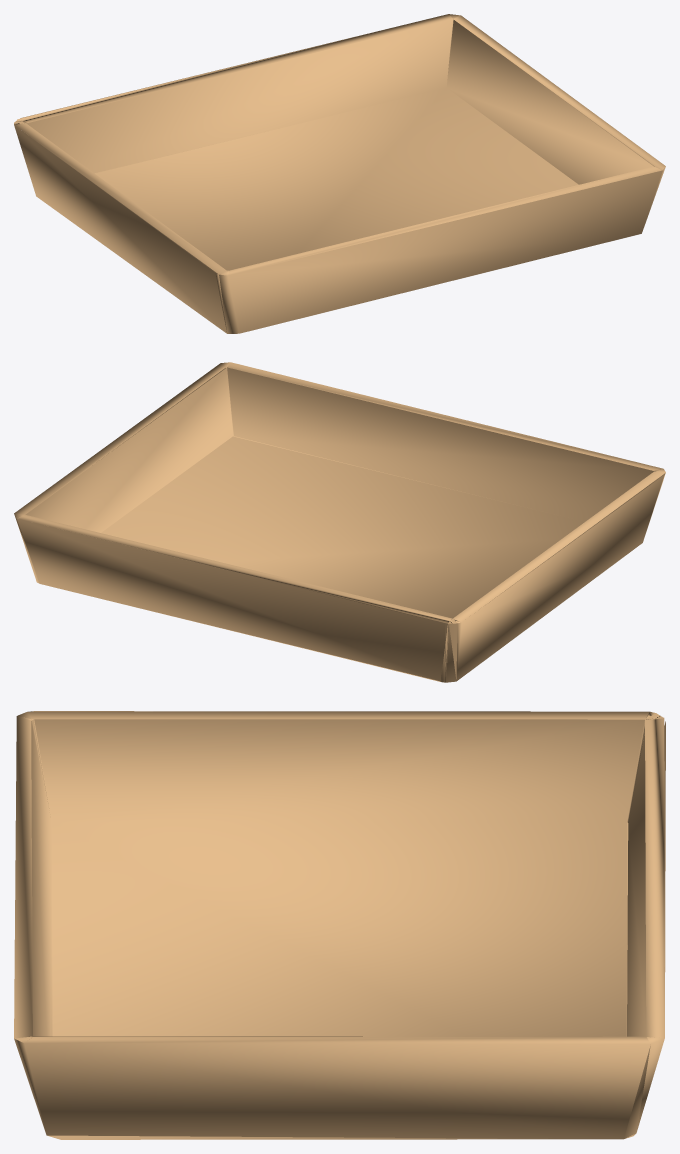
File: waimaihe_x.FBX
3 views of the same model, one above another, from view 1: azimuth 30°, elevation 25°; view 2: azimuth 150°, elevation 25°; view 3: azimuth 270°, elevation 25° (orthographic). The views are drawn at different scales.
Visible parts, largest first — view 1: waimaihe_x; view 2: waimaihe_x; view 3: waimaihe_x.
Boxes of the visible parts, x1,y1,x2,y2 form: waimaihe_x: (14,14,665,333); waimaihe_x: (14,362,665,682); waimaihe_x: (14,711,665,1139).
Bounding box in the file's own units: 52.07 × 7.63 × 43.08.
